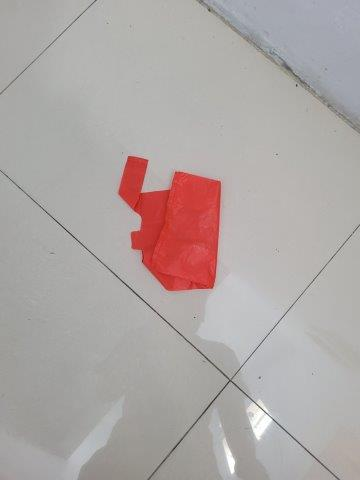plastik: (117, 155, 222, 290)
